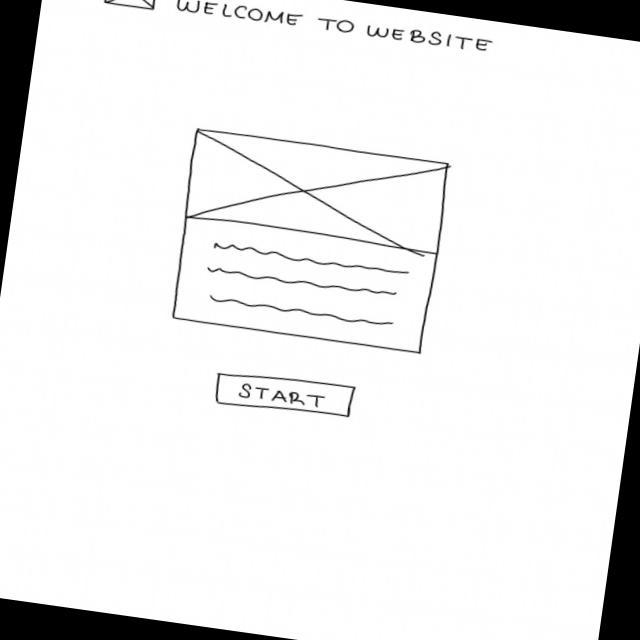button: (213, 367, 358, 426)
container: (171, 213, 443, 358)
image: (181, 126, 456, 259), (105, 1, 163, 14)
label: (172, 1, 494, 57)
textbox: (202, 240, 413, 334)
